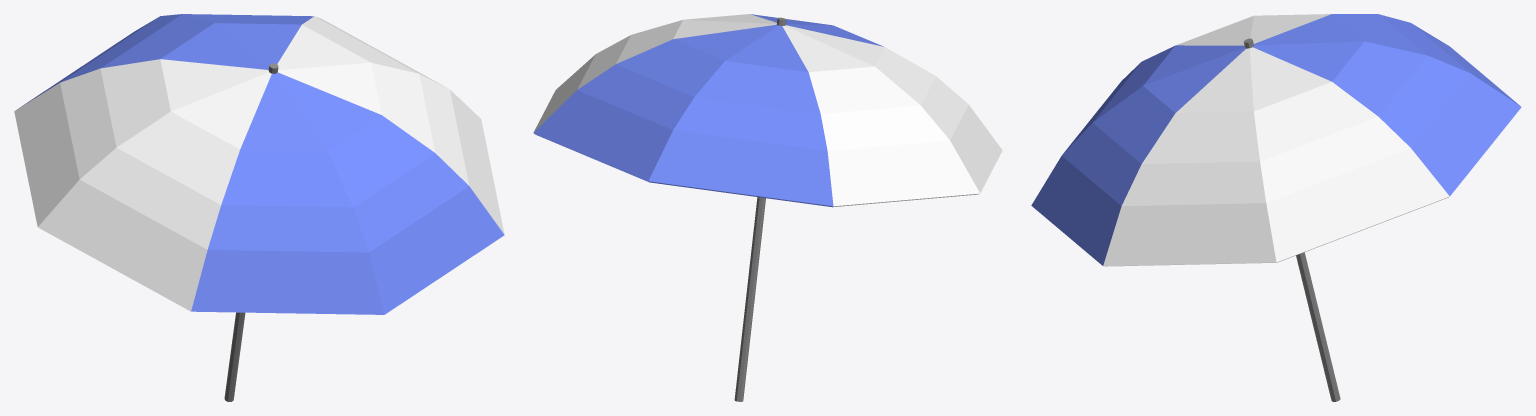
Rendered from beach_umbrella_low_poly.glb.
The picture shows the model from 3 angles, left to right: view 1: azimuth 30°, elevation 25°; view 2: azimuth 150°, elevation 25°; view 3: azimuth 270°, elevation 25°; orthographic projection. The views are drawn at different scales.
Parts seen in each view (by area): view 1: Umbrella; view 2: Umbrella; view 3: Umbrella.
Boxes of the visible parts, <box> form: Umbrella: <box>14,14,504,401</box>; Umbrella: <box>533,14,1002,401</box>; Umbrella: <box>1031,14,1521,401</box>.
Size of the model in its own units: 1.61 by 1.28 by 1.57.
Materials: 1 (1 with a texture image).
